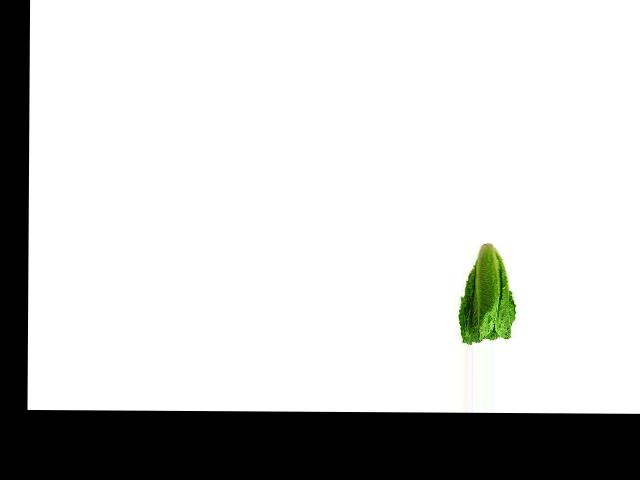lettuce: (453, 241, 519, 345)
